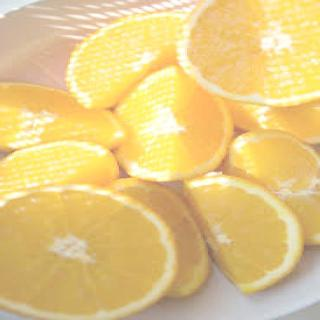orange: (0, 174, 180, 320), (162, 0, 320, 113), (103, 63, 237, 190)
